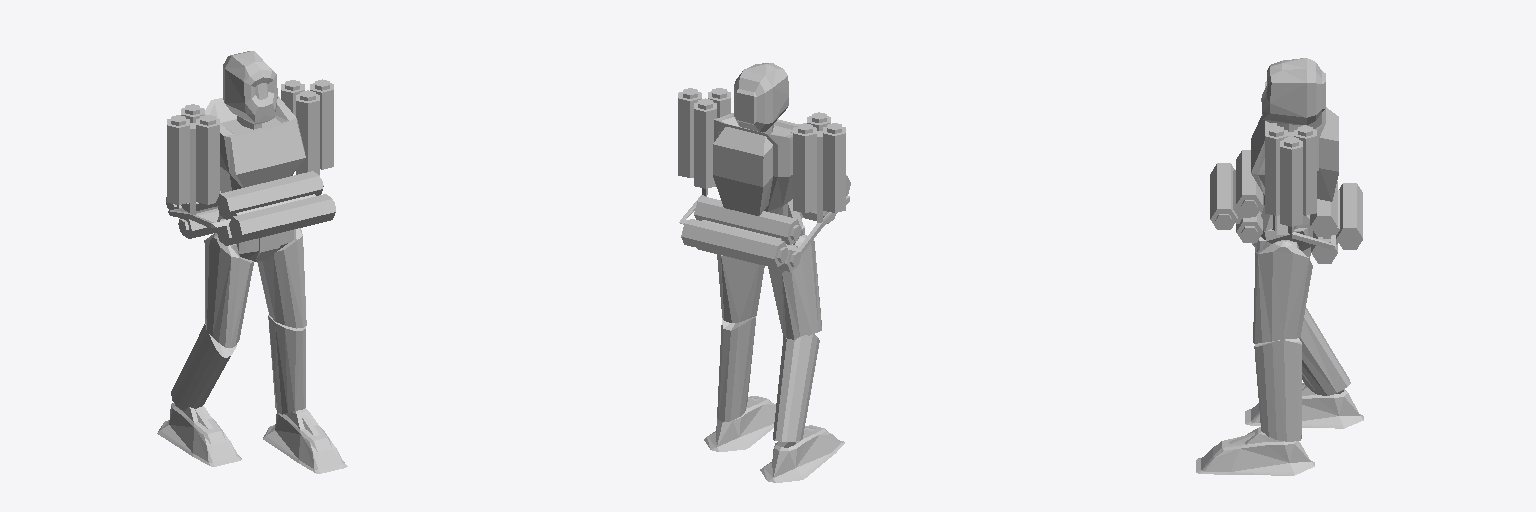
File: robots_000001.obj
3 views of the same model, side by side, from view 1: azimuth 30°, elevation 25°; view 2: azimuth 150°, elevation 25°; view 3: azimuth 270°, elevation 25° (orthographic).
Parts seen in each view (by area): view 1: Cylinder.004_Cylinder.006, Chest_plate_Cube.004, R_Thigh_Cube.005, R_Thigh.002_Cube.027, Head_base.002_Cube.030, R_Foot.002_Cube.035, R_Foot_Cube, R_Shin.002_Cube.029, R_Shin_Cube.007, Pelvis_Cube.006; view 2: Cylinder.004_Cylinder.006, Chest_plate_Cube.004, R_Shin_Cube.007, R_Thigh_Cube.005, Head_base.002_Cube.030, R_Shin.002_Cube.029, R_Foot_Cube, R_Thigh.002_Cube.027, R_Foot.002_Cube.035; view 3: Cylinder.004_Cylinder.006, R_Thigh.002_Cube.027, R_Shin.002_Cube.029, R_Foot.002_Cube.035, Head_base.002_Cube.030, Chest_plate_Cube.004, R_Shin_Cube.007, R_Foot_Cube, Pelvis_Cube.006.
Boxes of the visible parts, x1=… form: Cylinder.004_Cylinder.006: x1=166, y1=79, x2=335, y2=245; Chest_plate_Cube.004: x1=205, y1=96, x2=305, y2=221; R_Thigh_Cube.005: x1=204, y1=233, x2=253, y2=347; R_Thigh.002_Cube.027: x1=257, y1=228, x2=306, y2=328; Head_base.002_Cube.030: x1=223, y1=51, x2=277, y2=124; R_Foot.002_Cube.035: x1=263, y1=408, x2=347, y2=473; R_Foot_Cube: x1=157, y1=403, x2=241, y2=466; R_Shin.002_Cube.029: x1=268, y1=315, x2=305, y2=414; R_Shin_Cube.007: x1=171, y1=324, x2=236, y2=410; Pelvis_Cube.006: x1=237, y1=230, x2=293, y2=261; Cylinder.004_Cylinder.006: x1=678, y1=88, x2=850, y2=271; Chest_plate_Cube.004: x1=713, y1=113, x2=803, y2=226; R_Shin_Cube.007: x1=773, y1=334, x2=819, y2=441; R_Thigh_Cube.005: x1=768, y1=235, x2=821, y2=339; Head_base.002_Cube.030: x1=734, y1=63, x2=788, y2=131; R_Shin.002_Cube.029: x1=717, y1=316, x2=755, y2=421; R_Foot_Cube: x1=760, y1=425, x2=844, y2=482; R_Thigh.002_Cube.027: x1=717, y1=254, x2=764, y2=322; R_Foot.002_Cube.035: x1=704, y1=396, x2=775, y2=451; Cylinder.004_Cylinder.006: x1=1210, y1=81, x2=1362, y2=263; R_Thigh.002_Cube.027: x1=1253, y1=241, x2=1312, y2=343; R_Shin.002_Cube.029: x1=1254, y1=338, x2=1301, y2=441; R_Foot.002_Cube.035: x1=1196, y1=427, x2=1314, y2=475; Head_base.002_Cube.030: x1=1261, y1=58, x2=1325, y2=124; Chest_plate_Cube.004: x1=1251, y1=107, x2=1338, y2=234; R_Shin_Cube.007: x1=1299, y1=308, x2=1350, y2=395; R_Foot_Cube: x1=1245, y1=383, x2=1363, y2=428; Pelvis_Cube.006: x1=1252, y1=215, x2=1312, y2=250.
Size of the model in its own units: 1.38 by 3.03 by 1.19.